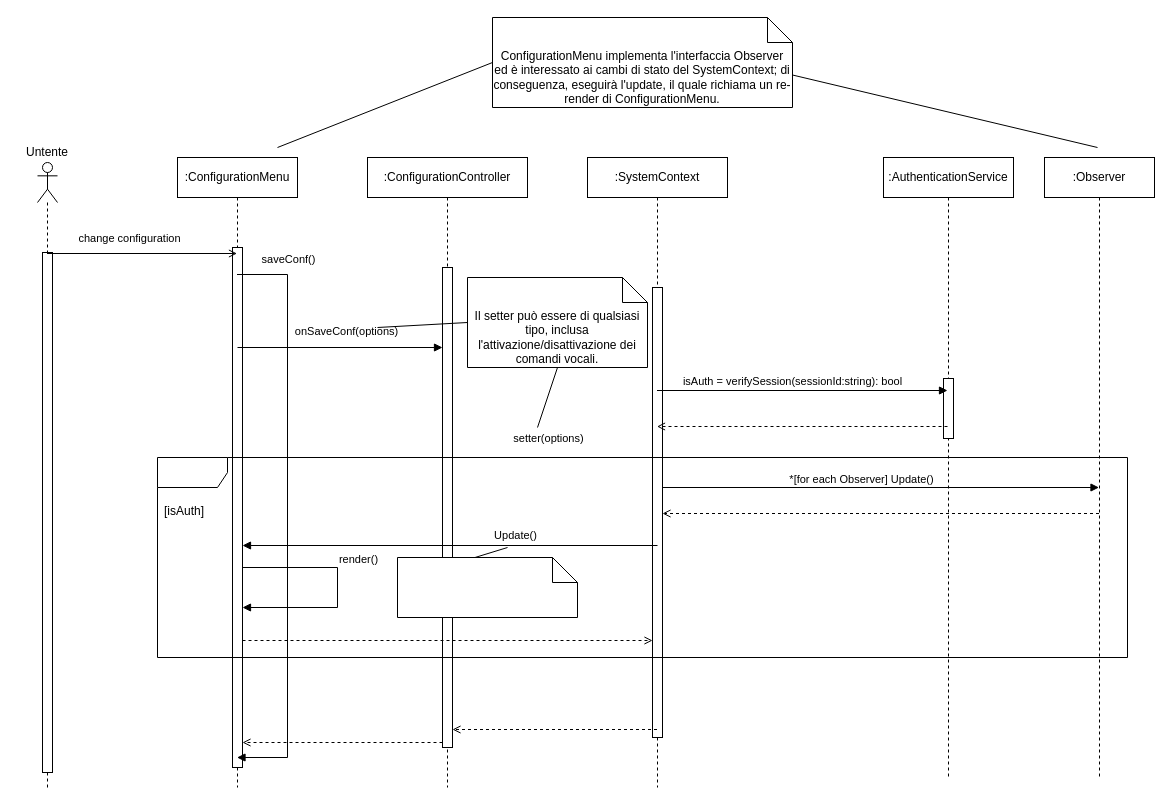
This 1172x805 diagram has some shape labels left out. The centre of each missing label's shape, as x and y in pixels:
"ALT" goes at point (642, 557).
"Caso specifico dell'eventuale update di ConfigurationMenu." goes at point (487, 587).
